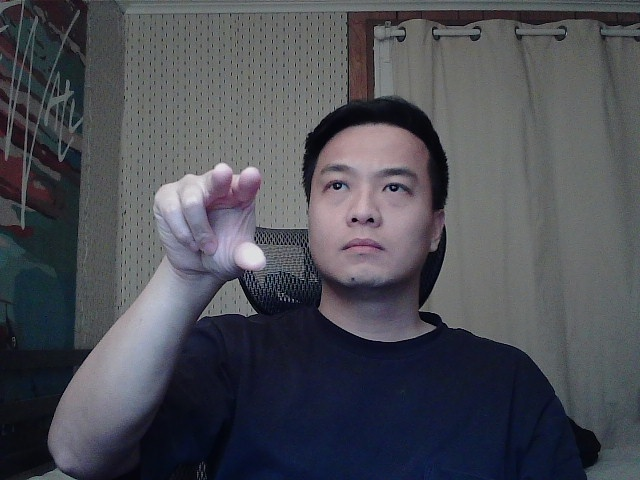No: (130, 142, 285, 297)
